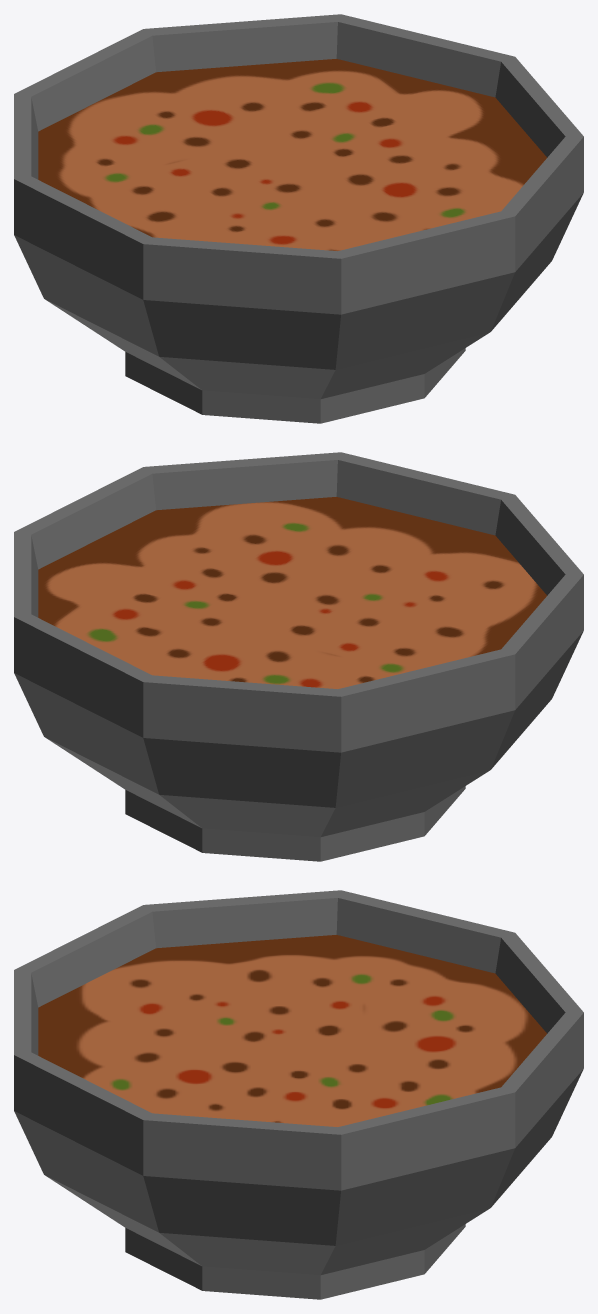
Rendered from Soup2.fbx.
3 views of the same model, one above another, from view 1: azimuth 30°, elevation 25°; view 2: azimuth 150°, elevation 25°; view 3: azimuth 270°, elevation 25° (orthographic).
Visible parts, largest first — view 1: Cylinder; view 2: Cylinder; view 3: Cylinder.
Part boxes in pixels (box(x1,y1,x2,y2)): Cylinder: box(14, 14, 583, 423); Cylinder: box(14, 452, 583, 861); Cylinder: box(14, 890, 583, 1299).
Bounding box in the file's own units: 273 × 111 × 269.
1 material, 1 textured.
